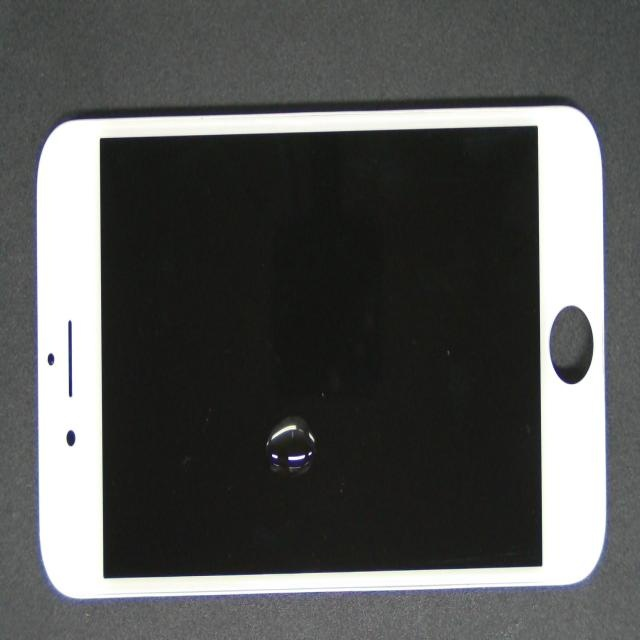oil: (176, 228, 471, 640)
